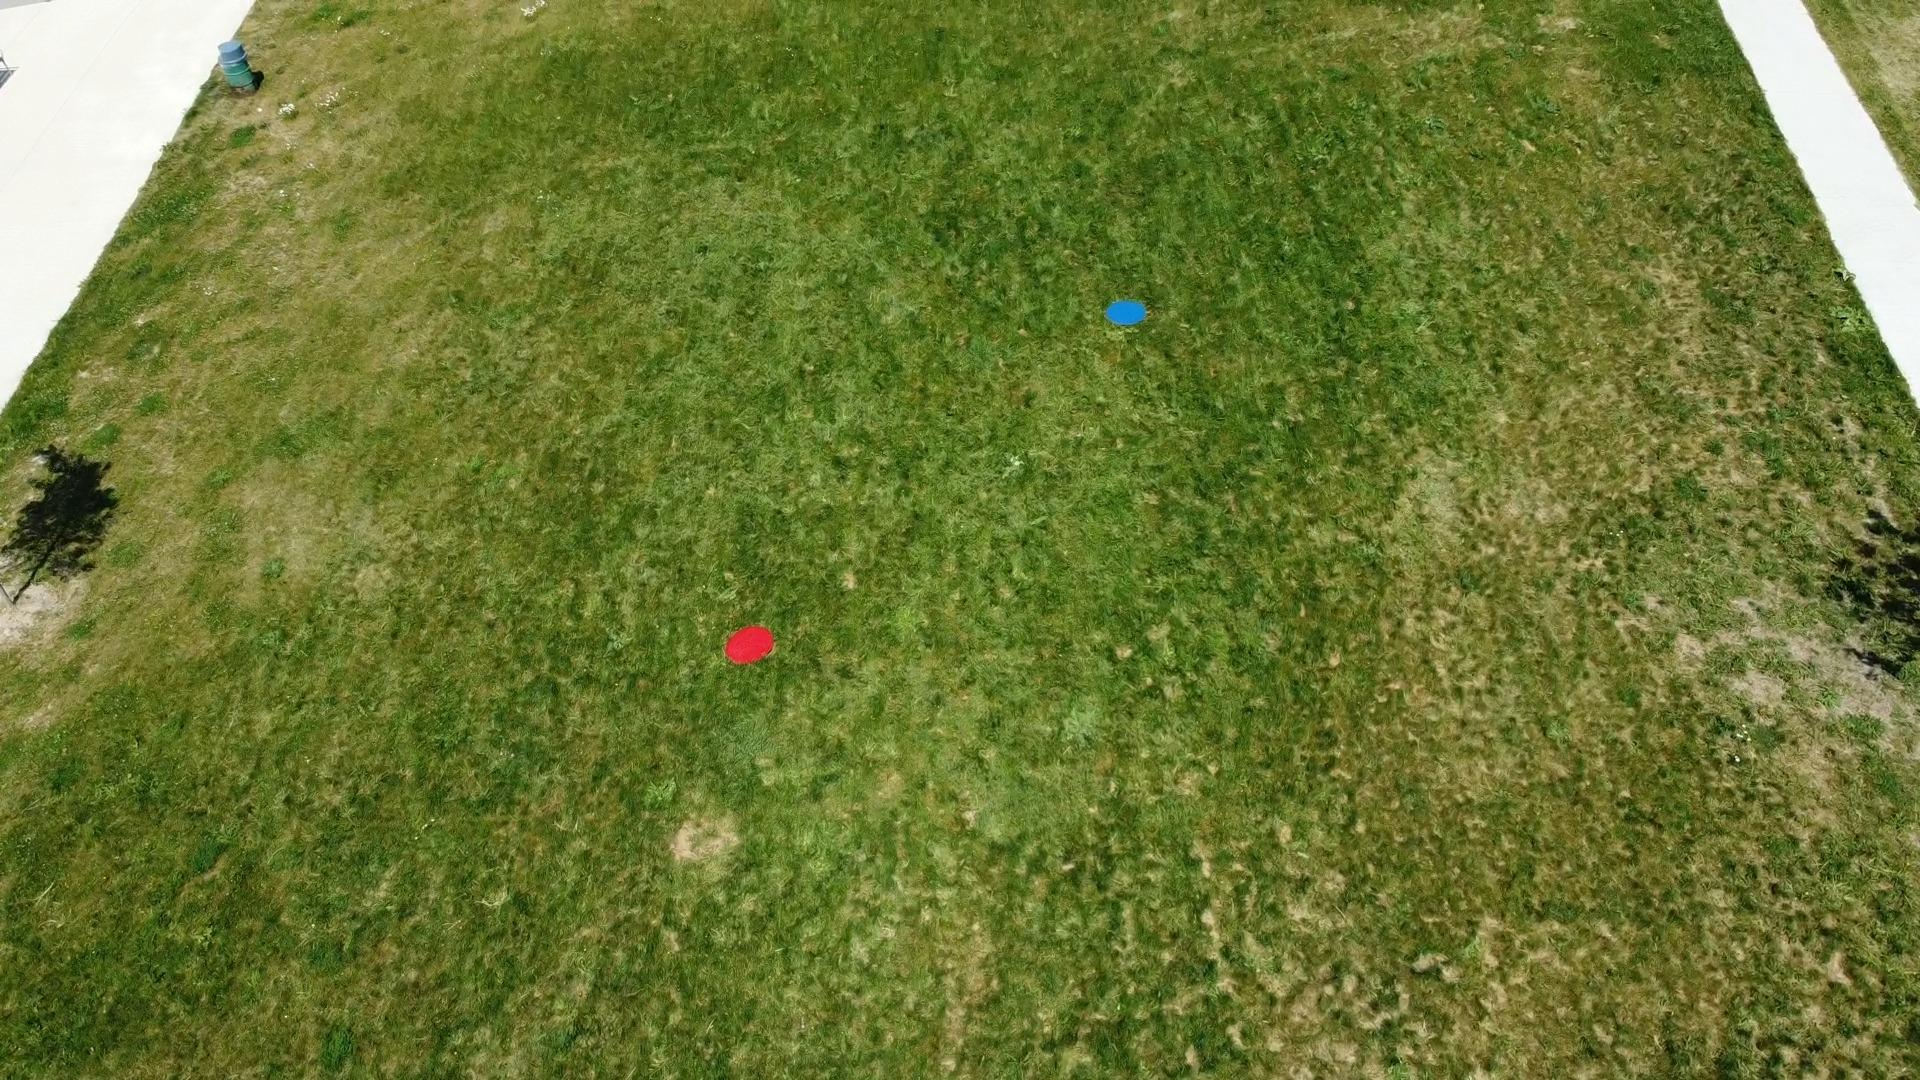Blue: (1104, 298, 1151, 327)
Red: (721, 625, 777, 667)
